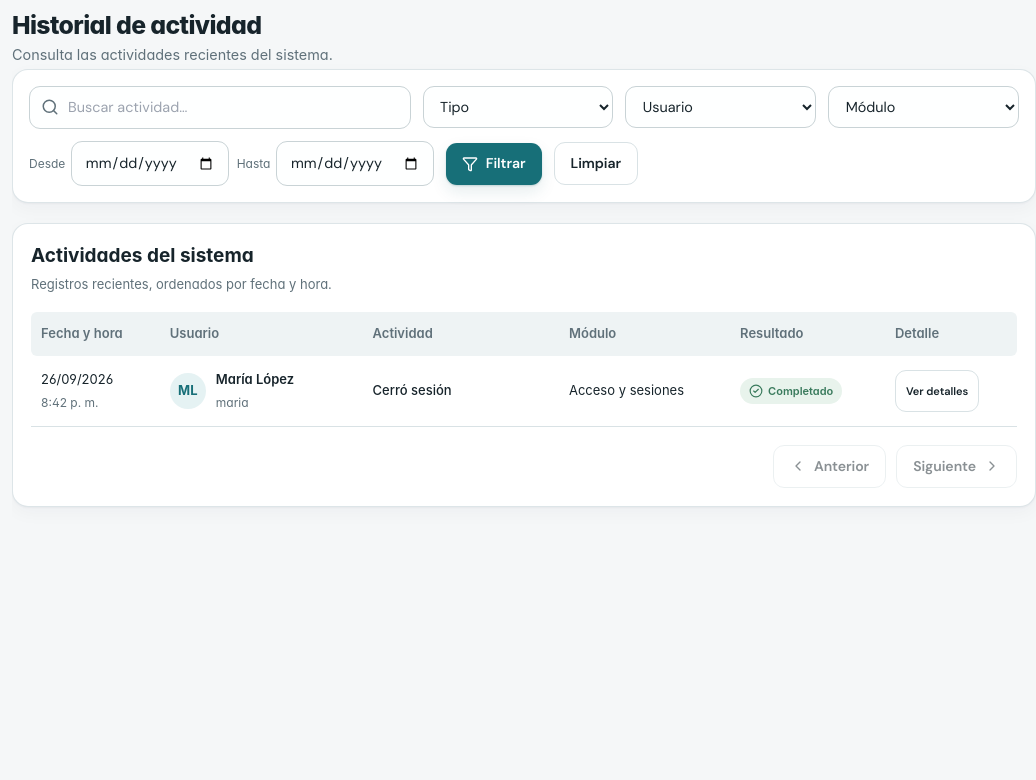
logout guardado como estado conserva título, módulo, categoría y resultado en escritorio y detalle
Expected: the text "Acceso y sesiones" is shown, top-left (559, 356), bottom-right (730, 427)
Expected: the text "Completado" is shown, top-left (740, 378), bottom-right (842, 404)
Click the button "Ver detalles". click: coordinates (937, 391)
box: top-left (895, 370), bottom-right (979, 412)
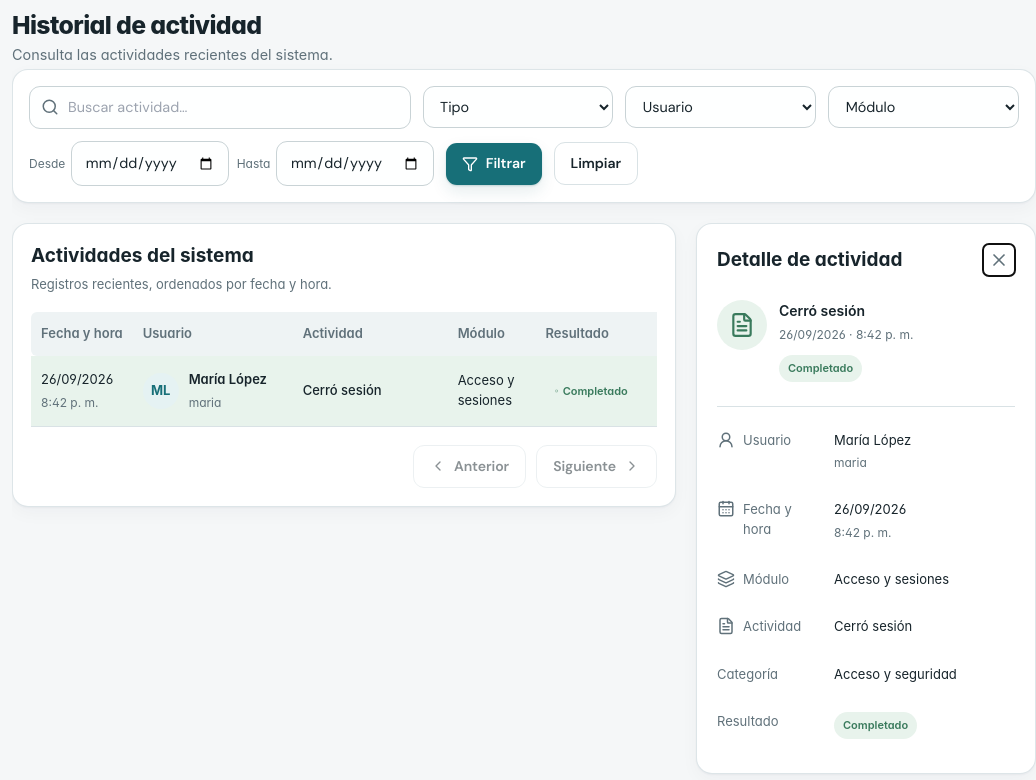
Expected: the heading "Cerró sesión" is shown, top-left (779, 302), bottom-right (865, 319)
Expected: the text "Acceso y sesiones" is shown, top-left (834, 571), bottom-right (949, 587)
Expected: the text "Acceso y seguridad" is shown, top-left (834, 666), bottom-right (957, 682)
